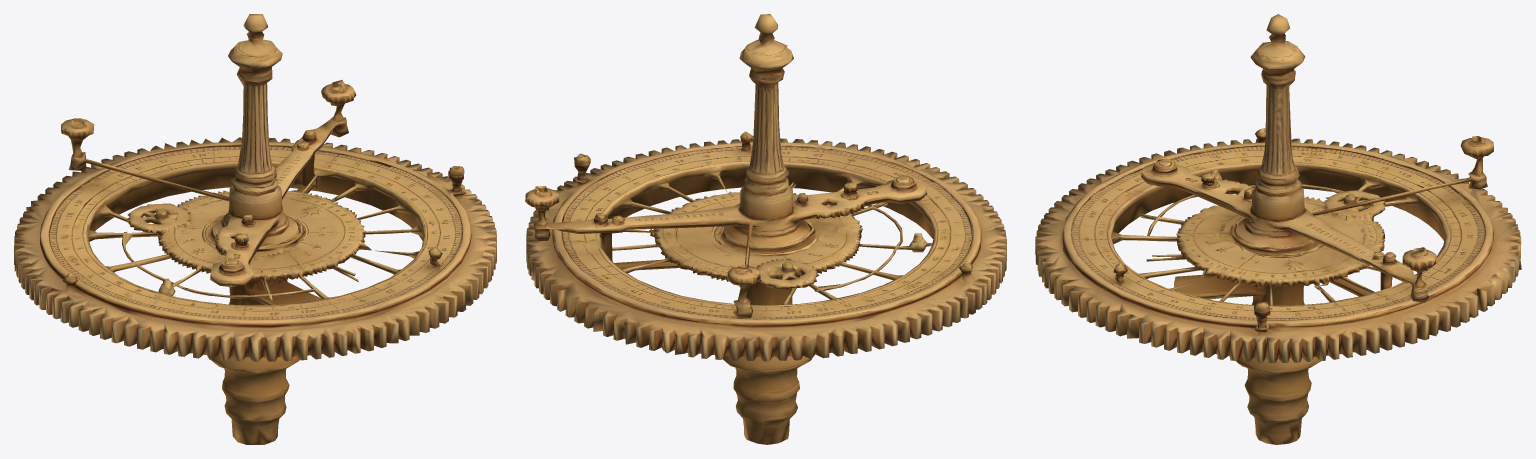
File: EtherVessel_Pillar.glb
3 views of the same model, side by side, from view 1: azimuth 30°, elevation 25°; view 2: azimuth 150°, elevation 25°; view 3: azimuth 270°, elevation 25° (orthographic).
Visible parts, largest first — view 1: tripo_node_8357d47e-9b9b-4421-8eb7-240b6ef4957c; view 2: tripo_node_8357d47e-9b9b-4421-8eb7-240b6ef4957c; view 3: tripo_node_8357d47e-9b9b-4421-8eb7-240b6ef4957c.
Part boxes in pixels (x1,y1,x2,y2): tripo_node_8357d47e-9b9b-4421-8eb7-240b6ef4957c: (14,14,496,444); tripo_node_8357d47e-9b9b-4421-8eb7-240b6ef4957c: (525,14,1006,444); tripo_node_8357d47e-9b9b-4421-8eb7-240b6ef4957c: (1035,14,1521,444).
Bounding box in the file's own units: 0.9784 × 0.9292 × 0.9794.
Materials: 1 (1 with a texture image).
